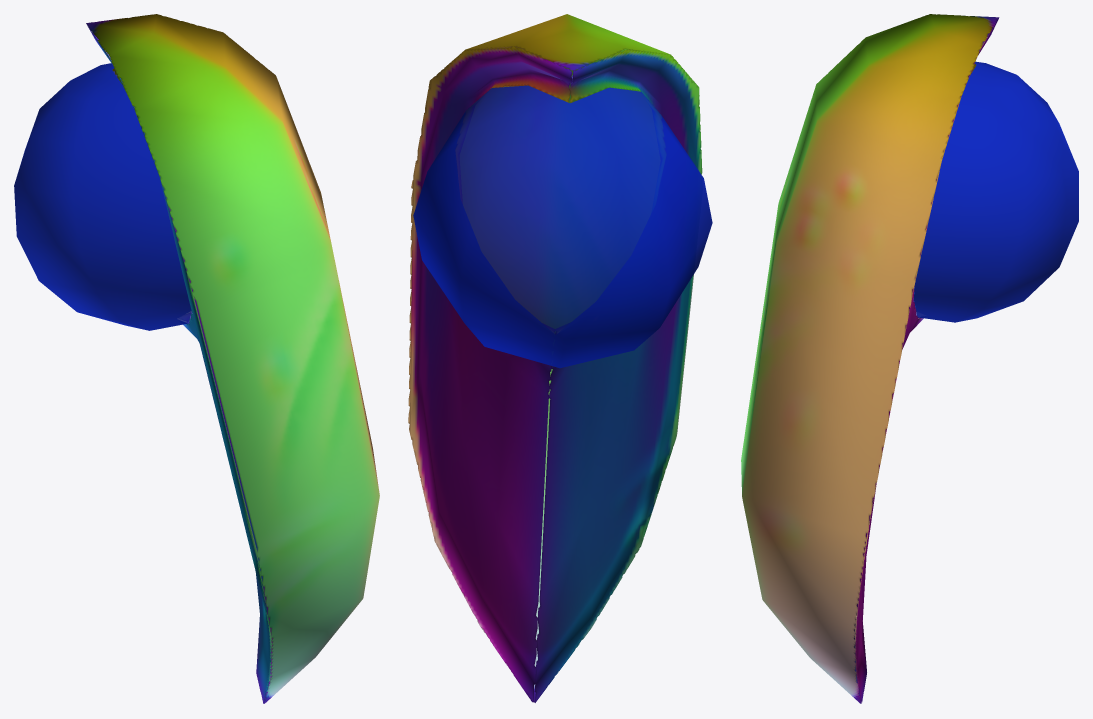
The model's file is ElipPata3.obj.
The picture shows the model from 3 angles, left to right: view 1: azimuth 30°, elevation 25°; view 2: azimuth 150°, elevation 25°; view 3: azimuth 270°, elevation 25°; orthographic projection. The views are drawn at different scales.
Visible parts, largest first — view 1: Sphere.008_Sphere.003; view 2: Sphere.008_Sphere.003; view 3: Sphere.008_Sphere.003.
Part boxes in pixels (x1,y1,x2,y2): Sphere.008_Sphere.003: [14, 14, 379, 703]; Sphere.008_Sphere.003: [408, 14, 712, 702]; Sphere.008_Sphere.003: [741, 14, 1078, 703].
Size of the model in its own units: 2.14 by 4.53 by 2.16.
